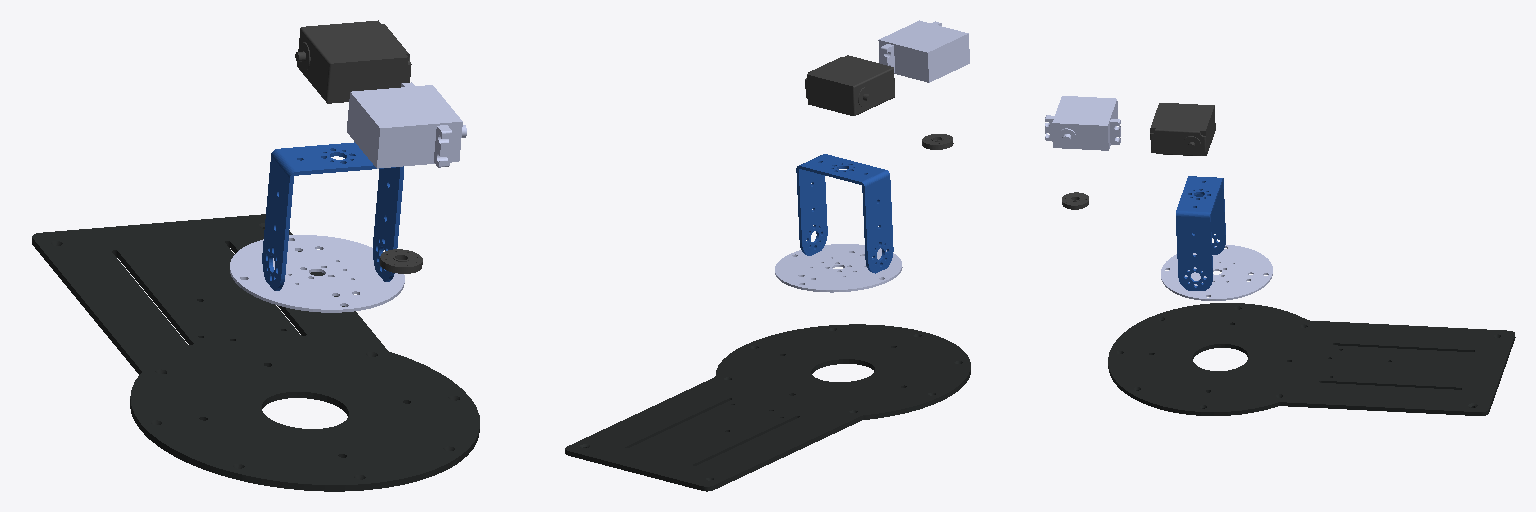
robot.urdf — HiWonder LeArm.SLDASM:
<?xml version="1.0" encoding="utf-8"?>
<!-- This URDF was automatically created by SolidWorks to URDF Exporter! Originally created by [author] ([email redacted]) 
     Commit Version: 1.6.0-4-g7f85cfe  Build Version: 1.6.7995.38578
     For more information, please see http://wiki.ros.org/sw_urdf_exporter -->
<robot
  name="HiWonder LeArm.SLDASM">
  <link
    name="base_link">
    <inertial>
      <origin
        xyz="-0.43185 0.1296 0.27449"
        rpy="0 0 0" />
      <mass
        value="0.10816" />
      <inertia
        ixx="0.00066366"
        ixy="9.186E-06"
        ixz="8.755E-05"
        iyy="0.00084009"
        iyz="1.8788E-05"
        izz="0.00017932" />
    </inertial>
    <visual>
      <origin
        xyz="0 0 0"
        rpy="0 0 0" />
      <geometry>
        <mesh
          filename="package://HiWonder LeArm.SLDASM/meshes/base_link.STL" />
      </geometry>
      <material
        name="">
        <color
          rgba="0.19216 0.20392 0.20392 1" />
      </material>
    </visual>
    <collision>
      <origin
        xyz="0 0 0"
        rpy="0 0 0" />
      <geometry>
        <mesh
          filename="package://HiWonder LeArm.SLDASM/meshes/base_link.STL" />
      </geometry>
    </collision>
  </link>
  <link
    name="link_1">
    <inertial>
      <origin
        xyz="-5.1008E-05 0.0097186 0"
        rpy="0 0 0" />
      <mass
        value="0.0072429" />
      <inertia
        ixx="2.9208E-06"
        ixy="7.4761E-21"
        ixz="0"
        iyy="5.8773E-06"
        iyz="-3.6264E-21"
        izz="2.9592E-06" />
    </inertial>
    <visual>
      <origin
        xyz="0 0 0"
        rpy="0 0 0" />
      <geometry>
        <mesh
          filename="package://HiWonder LeArm.SLDASM/meshes/link_1.STL" />
      </geometry>
      <material
        name="">
        <color
          rgba="0.79216 0.81961 0.93333 1" />
      </material>
    </visual>
    <collision>
      <origin
        xyz="0 0 0"
        rpy="0 0 0" />
      <geometry>
        <mesh
          filename="package://HiWonder LeArm.SLDASM/meshes/link_1.STL" />
      </geometry>
    </collision>
  </link>
  <joint
    name="joint_1"
    type="revolute">
    <origin
      xyz="-0.43816 -0.33719 0.18851"
      rpy="1.5959 0.075451 -0.17097" />
    <parent
      link="base_link" />
    <child
      link="link_1" />
    <axis
      xyz="0 1 0" />
    <limit
      lower="-1.57"
      upper="1.57"
      effort="300"
      velocity="3" />
  </joint>
  <link
    name="link_2">
    <inertial>
      <origin
        xyz="0.0011306 -0.030437 7.4385E-15"
        rpy="0 0 0" />
      <mass
        value="0.0080412" />
      <inertia
        ixx="3.5873E-06"
        ixy="7.5935E-22"
        ixz="1.2705E-20"
        iyy="5.0884E-06"
        iyz="-1.5352E-21"
        izz="7.8121E-06" />
    </inertial>
    <visual>
      <origin
        xyz="0 0 0"
        rpy="0 0 0" />
      <geometry>
        <mesh
          filename="package://HiWonder LeArm.SLDASM/meshes/link_2.STL" />
      </geometry>
      <material
        name="">
        <color
          rgba="0.2 0.4 0.69804 1" />
      </material>
    </visual>
    <collision>
      <origin
        xyz="0 0 0"
        rpy="0 0 0" />
      <geometry>
        <mesh
          filename="package://HiWonder LeArm.SLDASM/meshes/link_2.STL" />
      </geometry>
    </collision>
  </link>
  <joint
    name="joint_2"
    type="revolute">
    <origin
      xyz="0 0.021569 0.009925"
      rpy="3.1416 0 0" />
    <parent
      link="link_1" />
    <child
      link="link_2" />
    <axis
      xyz="-1 0 0" />
    <limit
      lower="-1.05"
      upper="1.05"
      effort="300"
      velocity="3" />
  </joint>
  <link
    name="link_3">
    <inertial>
      <origin
        xyz="0.019926 0.0101 -0.02026"
        rpy="0 0 0" />
      <mass
        value="0.032733" />
      <inertia
        ixx="5.5941E-06"
        ixy="-2.9697E-13"
        ixz="1.4157E-10"
        iyy="8.8266E-06"
        iyz="2.6323E-14"
        izz="5.4334E-06" />
    </inertial>
    <visual>
      <origin
        xyz="0 0 0"
        rpy="0 0 0" />
      <geometry>
        <mesh
          filename="package://HiWonder LeArm.SLDASM/meshes/link_3.STL" />
      </geometry>
      <material
        name="">
        <color
          rgba="0.29804 0.29804 0.29804 1" />
      </material>
    </visual>
    <collision>
      <origin
        xyz="0 0 0"
        rpy="0 0 0" />
      <geometry>
        <mesh
          filename="package://HiWonder LeArm.SLDASM/meshes/link_3.STL" />
      </geometry>
    </collision>
  </link>
  <joint
    name="joint_3"
    type="revolute">
    <origin
      xyz="0.021181 -0.1141 0.01"
      rpy="-3.1406 1.5708 -3.1406" />
    <parent
      link="link_2" />
    <child
      link="link_3" />
    <axis
      xyz="0 0 0" />
    <limit
      lower="-3.14"
      upper="0"
      effort="300"
      velocity="3" />
  </joint>
  <link
    name="link_4">
    <inertial>
      <origin
        xyz="0.019622 0.010125 -0.020084"
        rpy="0 0 0" />
      <mass
        value="0.033951" />
      <inertia
        ixx="6.0856E-06"
        ixy="3.183E-21"
        ixz="-6.0918E-08"
        iyy="9.5842E-06"
        iyz="4.3013E-21"
        izz="5.7919E-06" />
    </inertial>
    <visual>
      <origin
        xyz="0 0 0"
        rpy="0 0 0" />
      <geometry>
        <mesh
          filename="package://HiWonder LeArm.SLDASM/meshes/link_4.STL" />
      </geometry>
      <material
        name="">
        <color
          rgba="0.79216 0.81961 0.93333 1" />
      </material>
    </visual>
    <collision>
      <origin
        xyz="0 0 0"
        rpy="0 0 0" />
      <geometry>
        <mesh
          filename="package://HiWonder LeArm.SLDASM/meshes/link_4.STL" />
      </geometry>
    </collision>
  </link>
  <joint
    name="joint_4"
    type="revolute">
    <origin
      xyz="0.0706 0.019975 -0.001575"
      rpy="1.5624 1.5708 -1.5799" />
    <parent
      link="link_3" />
    <child
      link="link_4" />
    <axis
      xyz="0 0 0" />
    <limit
      lower="-3.14"
      upper="0"
      effort="300"
      velocity="3" />
  </joint>
  <link
    name="link_5">
    <inertial>
      <origin
        xyz="-4.4409E-16 0.0016682 7.7716E-16"
        rpy="0 0 0" />
      <mass
        value="0.00088325" />
      <inertia
        ixx="2.3525E-08"
        ixy="-1.4631E-23"
        ixz="-7.6101E-23"
        iyy="4.5403E-08"
        iyz="4.3324E-23"
        izz="2.3525E-08" />
    </inertial>
    <visual>
      <origin
        xyz="0 0 0"
        rpy="0 0 0" />
      <geometry>
        <mesh
          filename="package://HiWonder LeArm.SLDASM/meshes/link_5.STL" />
      </geometry>
      <material
        name="">
        <color
          rgba="0.29804 0.29804 0.29804 1" />
      </material>
    </visual>
    <collision>
      <origin
        xyz="0 0 0"
        rpy="0 0 0" />
      <geometry>
        <mesh
          filename="package://HiWonder LeArm.SLDASM/meshes/link_5.STL" />
      </geometry>
    </collision>
  </link>
  <joint
    name="joint_5"
    type="revolute">
    <origin
      xyz="0.019862 -0.055112 -0.02935"
      rpy="0 0.7854 0" />
    <parent
      link="link_4" />
    <child
      link="link_5" />
    <axis
      xyz="0 0 0" />
    <limit
      lower="0"
      upper="3.14"
      effort="300"
      velocity="3" />
  </joint>
</robot>

--- Render facts (derived) ---
The picture shows the robot from 3 angles, left to right: view 1: azimuth 30°, elevation 25°; view 2: azimuth 150°, elevation 25°; view 3: azimuth 270°, elevation 25°; orthographic projection.
Robot: HiWonder LeArm.SLDASM — 6 links, 5 joints (5 revolute); root link base_link; default pose: every joint at zero.
Visible links, largest first — view 1: base_link, link_1, link_4, link_2, link_3, link_5; view 2: base_link, link_2, link_1, link_4, link_3; view 3: base_link, link_2, link_1, link_4, link_3.
Boxes of the visible links, x1,y1,x2,y2 form: base_link: (32, 214, 479, 491); link_1: (230, 235, 404, 312); link_4: (347, 82, 466, 168); link_2: (262, 142, 403, 290); link_3: (295, 20, 411, 103); link_5: (380, 249, 422, 273); base_link: (565, 324, 970, 491); link_2: (796, 154, 893, 273); link_1: (775, 244, 902, 292); link_4: (878, 20, 969, 82); link_3: (805, 55, 894, 115); base_link: (1108, 303, 1515, 415); link_2: (1176, 176, 1225, 290); link_1: (1161, 245, 1272, 300); link_4: (1045, 96, 1120, 150); link_3: (1150, 103, 1215, 155).
Bounding box of the posed robot: 0.173 × 0.3345 × 0.205 m (x, y, z).
Meshes: 6 distinct files referenced, 6 mesh visuals loaded (6 binary STL).
